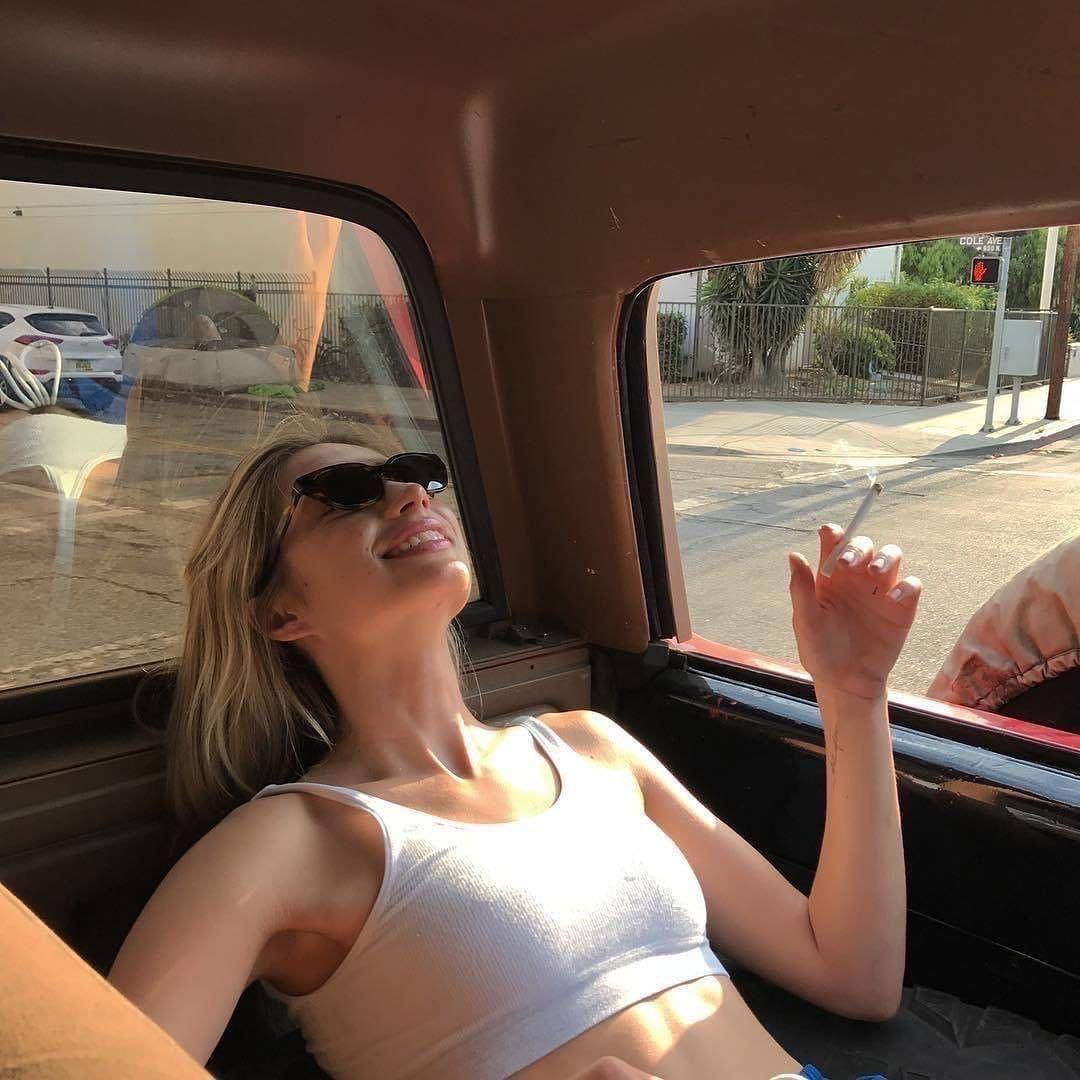cigarette: (819, 481, 883, 578)
